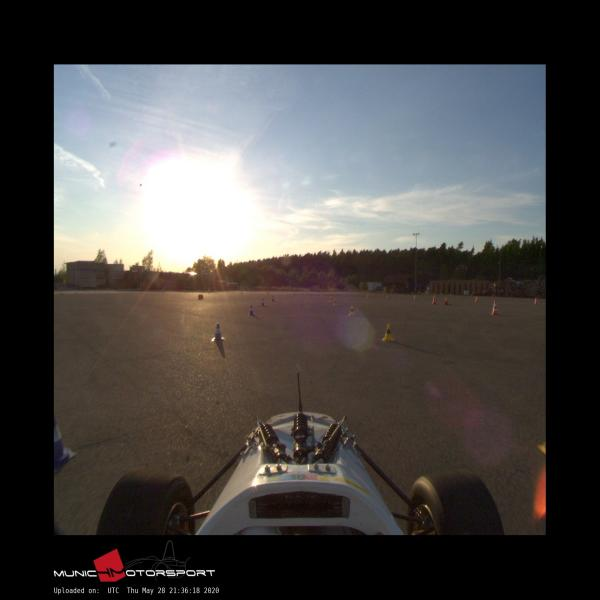blue_cone: (54, 414, 77, 469), (211, 323, 225, 342), (248, 305, 255, 315)
yellow_cone: (382, 324, 395, 342), (348, 306, 356, 316)
